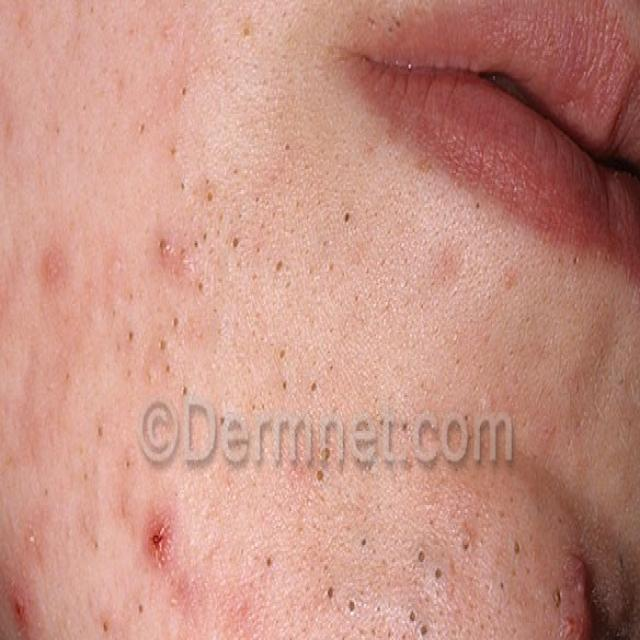Acne: (37, 176, 570, 640)
